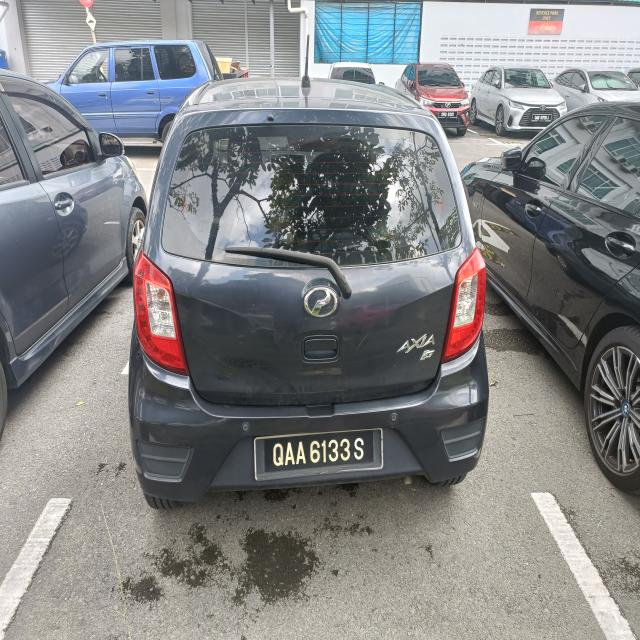PeroduaAxia: (127, 74, 490, 509)
